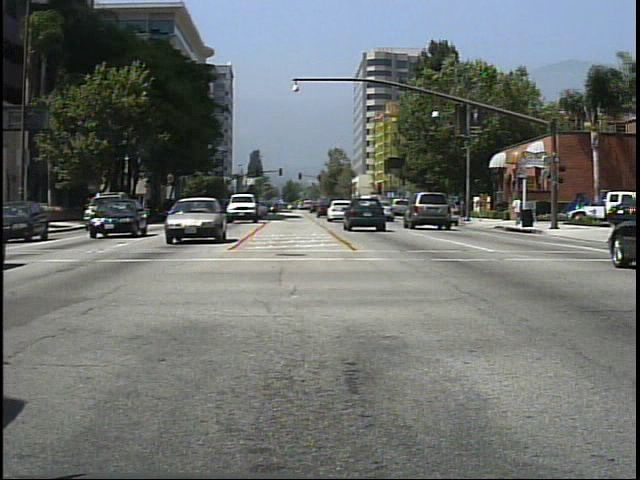person: (509, 193, 524, 229), (474, 193, 487, 224)
